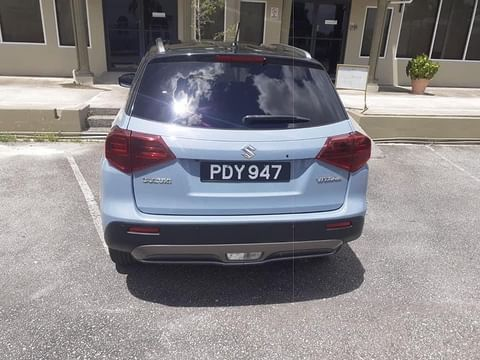License-Plate: (200, 162, 289, 180)
